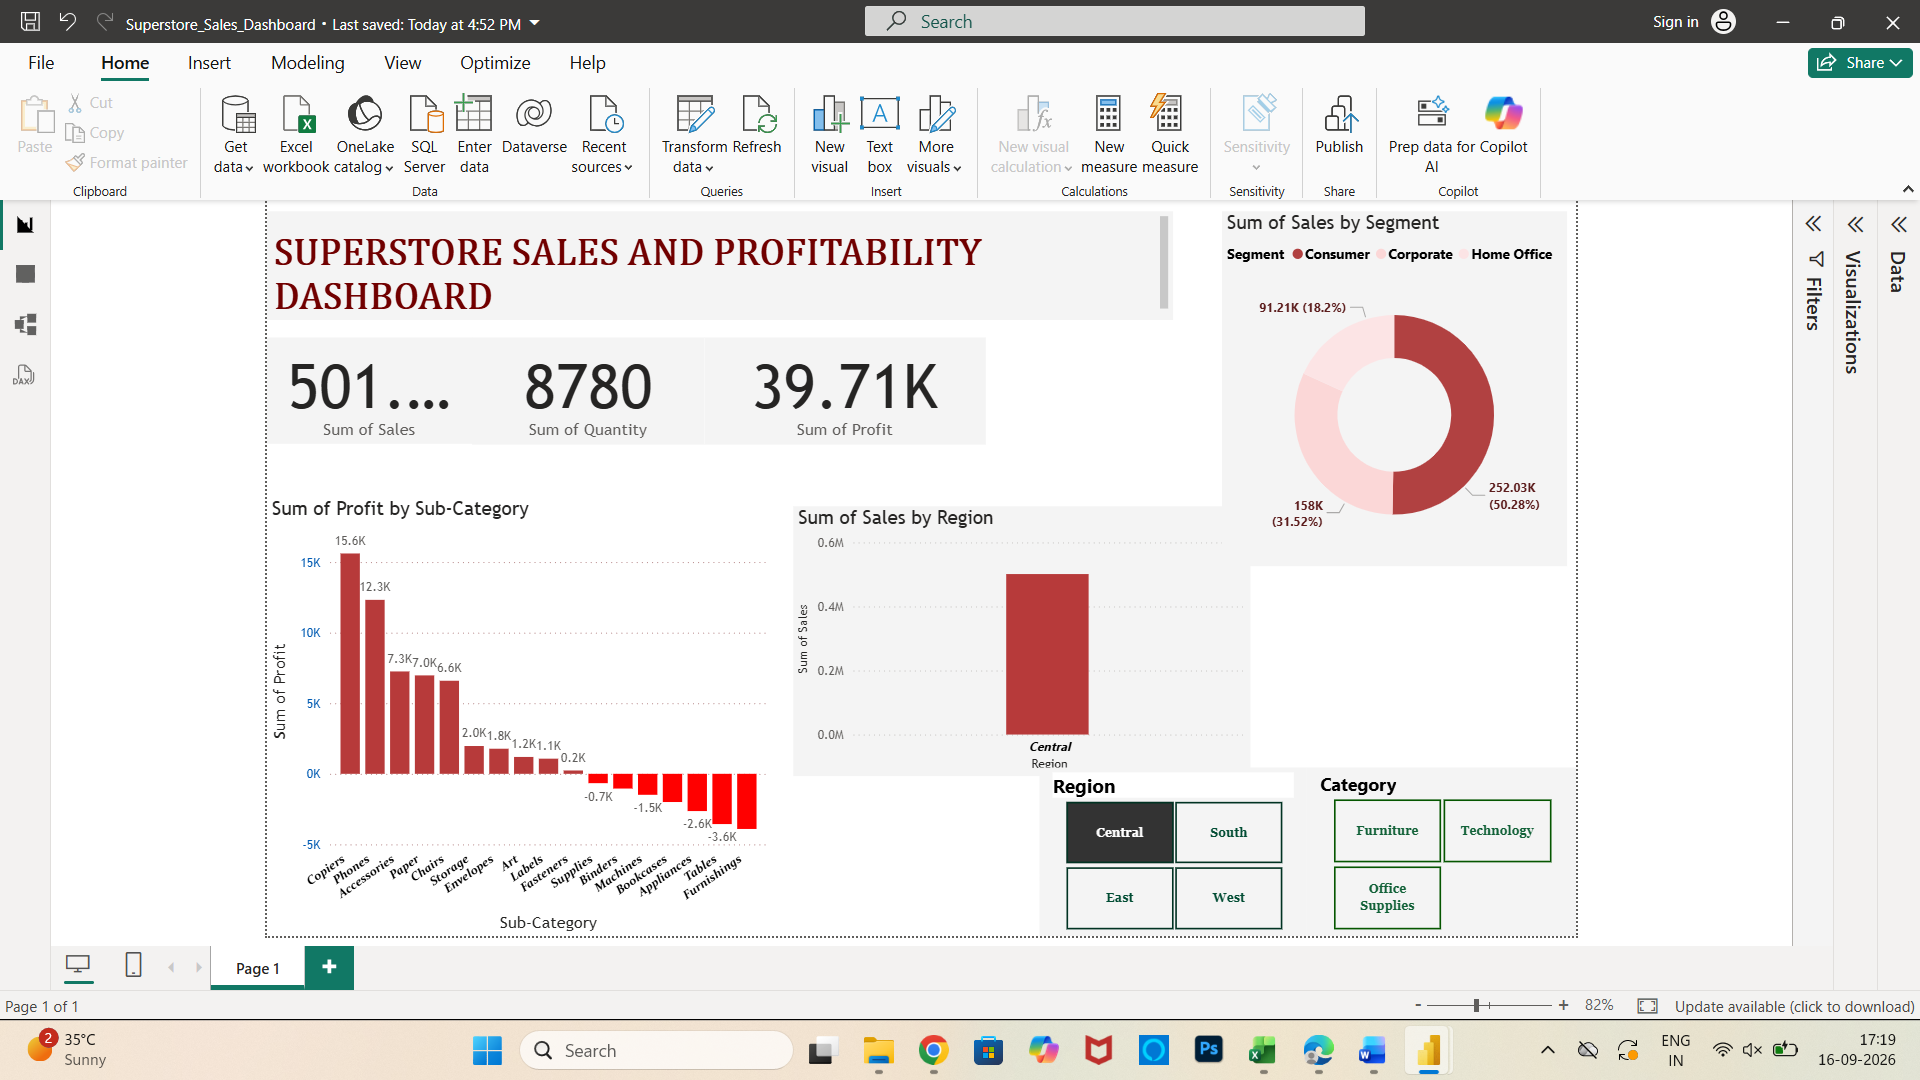

This screenshot's page, from the dashboard's own definition file:
{"tool":"powerbi","page":{"name":"Page 1","canvas":[1280,720],"ordinal":0},"visuals":[{"type":"card","fields":{"Values":["Sum(SampleSuperstore.Sales)"]},"box":[0,134.5,200.5,103.9],"z":0},{"type":"card","fields":{"Values":["Sum(SampleSuperstore.Quantity)"]},"box":[200.5,134.5,227.4,105.2],"z":1000},{"type":"card","fields":{"Values":["Sum(SampleSuperstore.Profit)"]},"box":[428,134.5,275.1,105.2],"z":2000},{"type":"clusteredColumnChart","fields":{"Category":["SampleSuperstore.Sub-Category"],"Y":["Sum(SampleSuperstore.Profit)"]},"box":[0,291,494,429.2],"z":3000},{"type":"clusteredColumnChart","fields":{"Category":["SampleSuperstore.Region"],"Y":["Sum(SampleSuperstore.Sales)"]},"box":[514.8,299.6,447.6,264.1],"z":4000},{"type":"donutChart","fields":{"Category":["SampleSuperstore.Segment"],"Y":["Sum(SampleSuperstore.Sales)"]},"box":[934.2,11,337.5,347.3],"z":5000},{"type":"slicer","fields":{"Values":["SampleSuperstore.Region"]},"box":[755.7,555.2,261.7,165.1],"z":5001},{"type":"slicer","fields":{"Values":["SampleSuperstore.Category"]},"box":[1017.4,555.2,262.9,165.1],"z":5002},{"type":"textbox","box":[0,11,886.6,106.4],"z":5003}]}

Visuals, with their boxes on the page's 1280x720 design canvas (x1, y1, x2, y2). These are canvas units, not pixel positions in the 1920x1080 screenshot, which may show the page scaled, cropped or inside an application window:
card - Sum(SampleSuperstore.Sales): 0, 134, 200, 238
card - Sum(SampleSuperstore.Quantity): 200, 134, 428, 240
card - Sum(SampleSuperstore.Profit): 428, 134, 703, 240
clusteredColumnChart - SampleSuperstore.Sub-Category x Sum(SampleSuperstore.Profit): 0, 291, 494, 720
clusteredColumnChart - SampleSuperstore.Region x Sum(SampleSuperstore.Sales): 515, 300, 962, 564
donutChart - SampleSuperstore.Segment x Sum(SampleSuperstore.Sales): 934, 11, 1272, 358
slicer - SampleSuperstore.Region: 756, 555, 1017, 720
slicer - SampleSuperstore.Category: 1017, 555, 1280, 720
textbox: 0, 11, 887, 117
